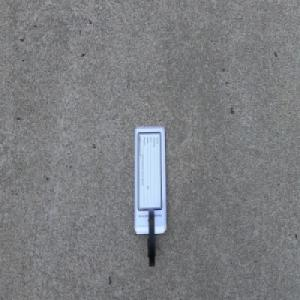LuggageTag: (131, 124, 168, 269)
